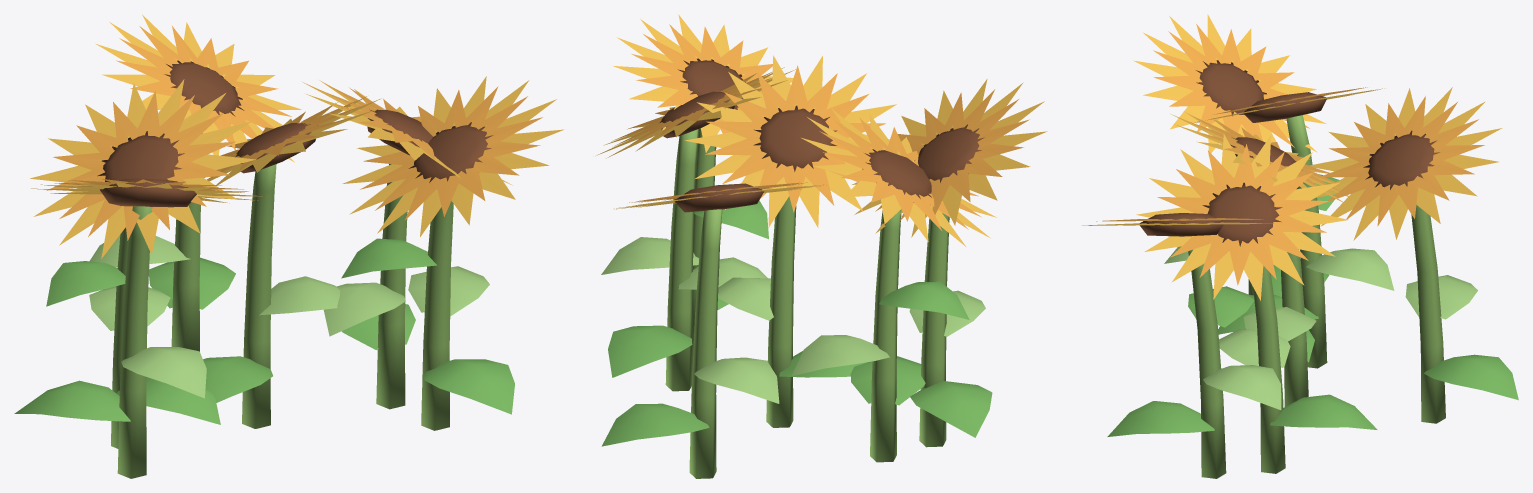
The model's file is sunflower_patch.glb.
3 views of the same model, side by side, from view 1: azimuth 30°, elevation 25°; view 2: azimuth 150°, elevation 25°; view 3: azimuth 270°, elevation 25° (orthographic). The views are drawn at different scales.
Visible parts, largest first — view 1: sunflower_3, sunflower_2, sunflower_1; view 2: sunflower_3, sunflower_2, sunflower_1; view 3: sunflower_3, sunflower_2, sunflower_1.
Part boxes in pixels (x1,y1,x2,y2): sunflower_3: [14, 14, 563, 478]; sunflower_2: [30, 79, 512, 448]; sunflower_1: [203, 96, 381, 428]; sunflower_3: [601, 14, 1047, 478]; sunflower_2: [596, 67, 996, 462]; sunflower_1: [685, 55, 896, 427]; sunflower_3: [1082, 14, 1518, 478]; sunflower_2: [1136, 87, 1394, 473]; sunflower_1: [1171, 112, 1348, 406].
Bounding box in the file's own units: 1.63 × 1.14 × 1.49.
